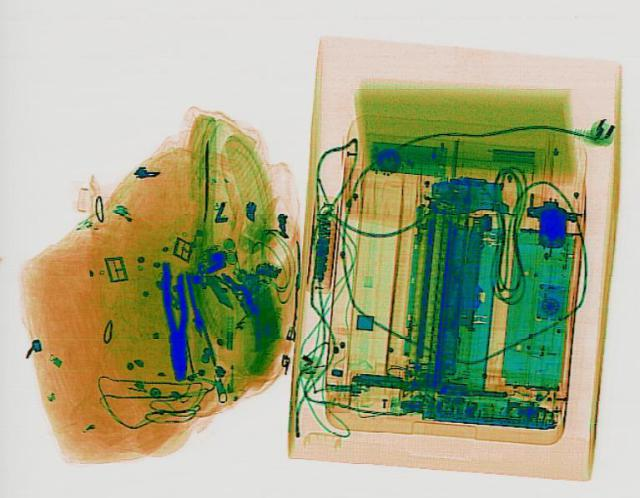Pliers: (160, 260, 190, 379)
